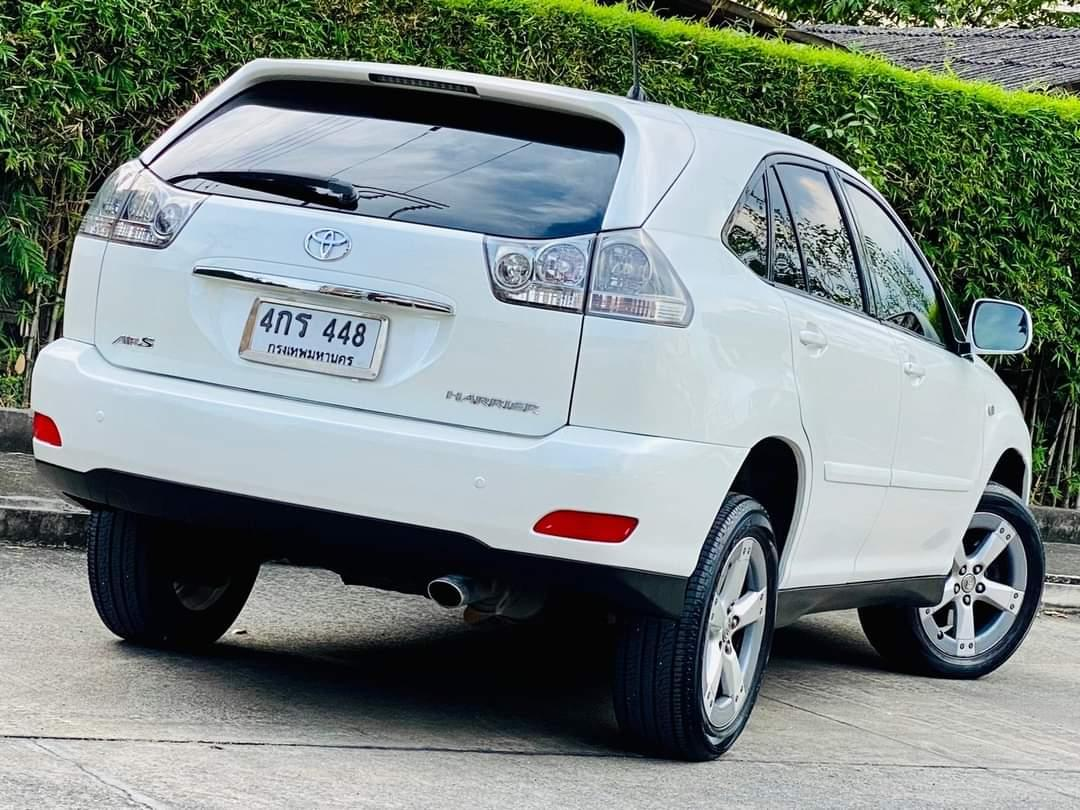license-plate: (240, 292, 391, 386)
